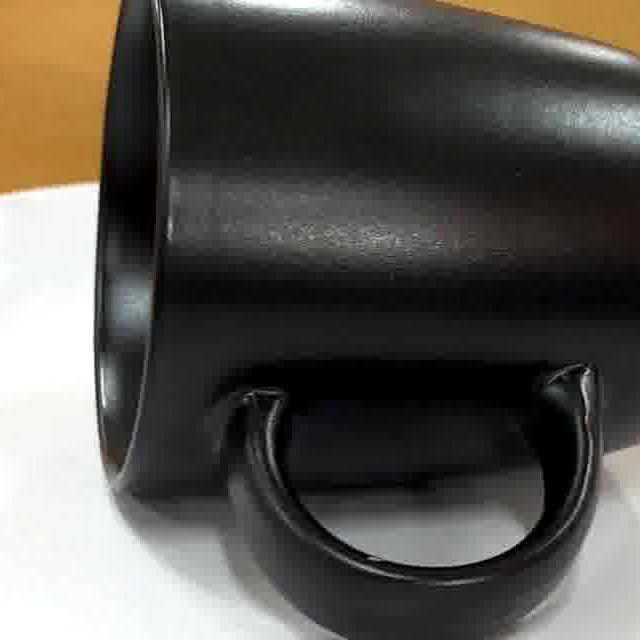cup: (96, 0, 640, 640)
